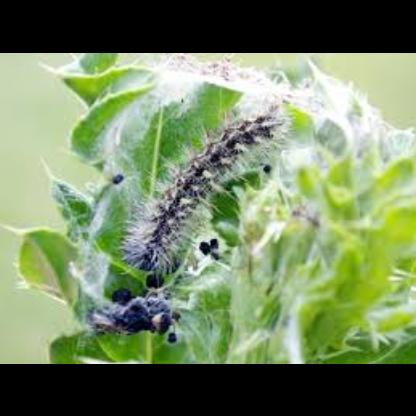oruga: (124, 108, 307, 276)
